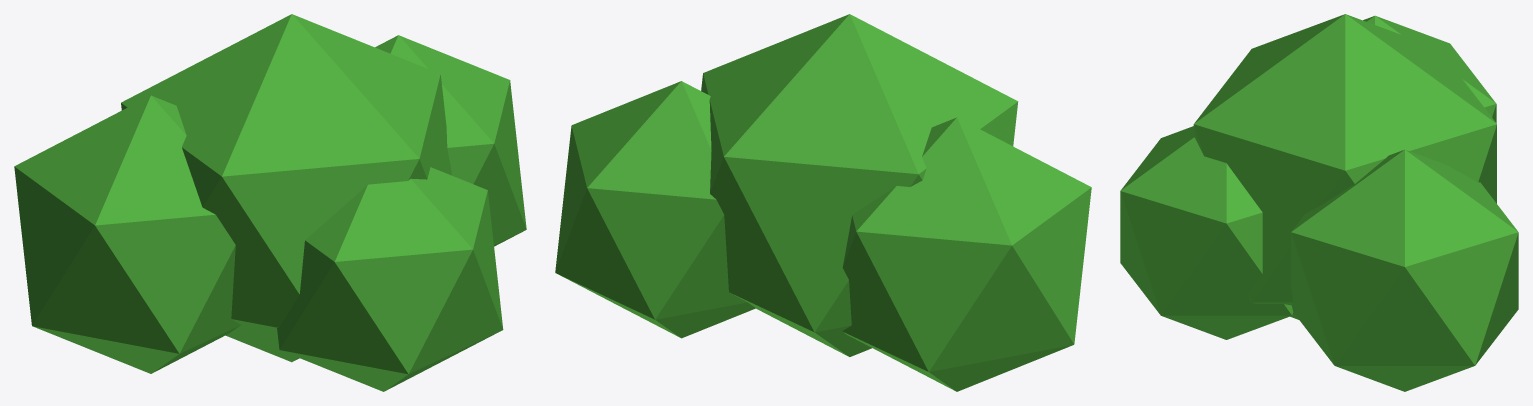
Rendered from bush.glb.
3 renders of one model, left to right at view 1: azimuth 30°, elevation 25°; view 2: azimuth 150°, elevation 25°; view 3: azimuth 270°, elevation 25°, orthographic. The views are drawn at different scales.
Visible parts, largest first — view 1: Bush; view 2: Bush; view 3: Bush.
Part boxes in pixels (left/top/right/bottom): Bush: left=14, top=14, right=526, bottom=391; Bush: left=555, top=14, right=1091, bottom=391; Bush: left=1120, top=14, right=1518, bottom=391.
Bounding box in the file's own units: 1.78 × 1.2 × 1.34.
